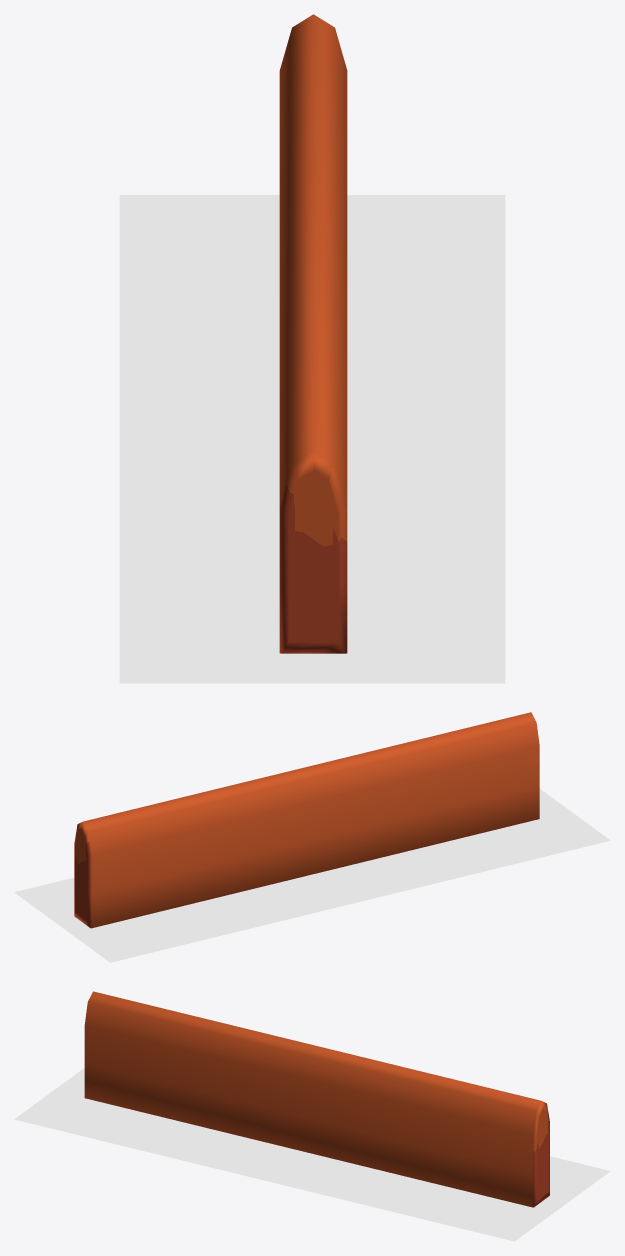
File: NormalContent.fbx
3 views of the same model, one above another, from view 1: azimuth 30°, elevation 25°; view 2: azimuth 150°, elevation 25°; view 3: azimuth 270°, elevation 25° (orthographic). The views are drawn at different scales.
Visible parts, largest first — view 1: Shadow, BasicObstacle; view 2: BasicObstacle, Shadow; view 3: BasicObstacle, Shadow.
Part boxes in pixels (x1=…): Shadow: x1=119, y1=195, x2=505, y2=683; BasicObstacle: x1=279, y1=14, x2=347, y2=653; BasicObstacle: x1=74, y1=712, x2=539, y2=928; Shadow: x1=14, y1=789, x2=610, y2=962; BasicObstacle: x1=84, y1=991, x2=549, y2=1207; Shadow: x1=14, y1=1068, x2=610, y2=1241.
Size of the model in its own units: 1.61 by 0.3992 by 2.11.
